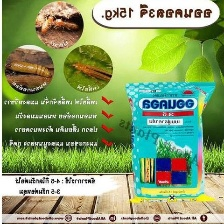insecticide: (123, 79, 218, 205)
